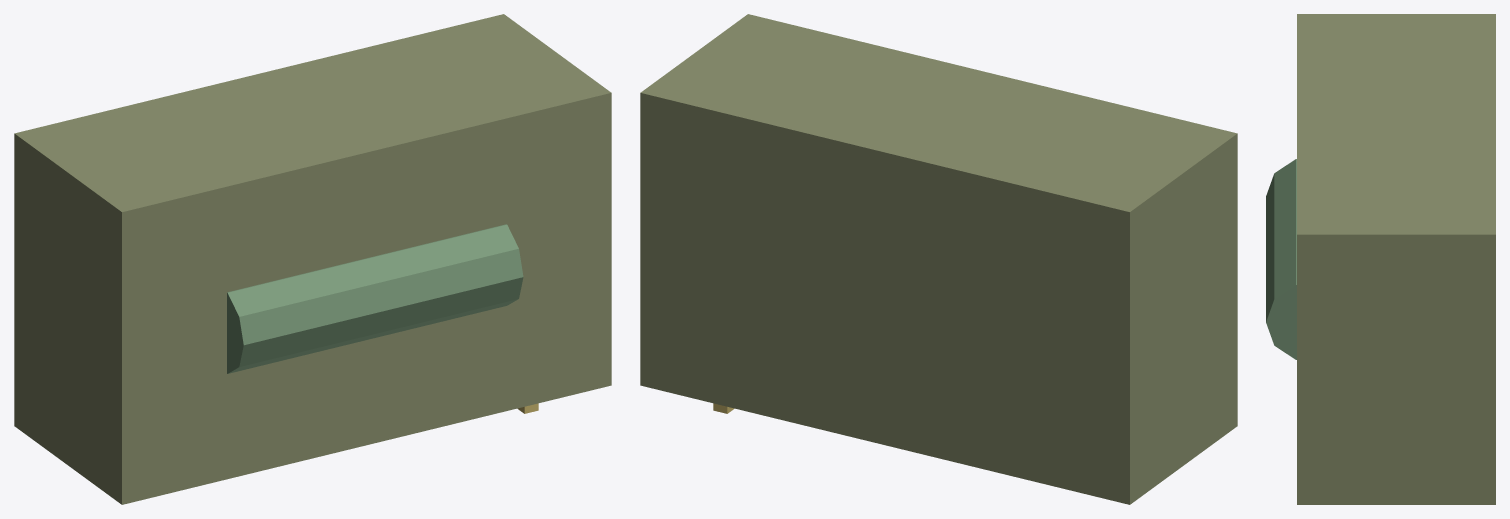
Rendered from sleeping_bag.glb.
3 renders of one model, left to right at view 1: azimuth 30°, elevation 25°; view 2: azimuth 150°, elevation 25°; view 3: azimuth 270°, elevation 25°, orthographic. The views are drawn at different scales.
Parts seen in each view (by area): view 1: 00_sleeping_bag, 03_rolled_pillow; view 2: 00_sleeping_bag; view 3: 00_sleeping_bag, 03_rolled_pillow.
Boxes of the visible parts, <box> form: 00_sleeping_bag: <box>14,14,611,504</box>; 03_rolled_pillow: <box>227,224,523,373</box>; 00_sleeping_bag: <box>640,14,1237,504</box>; 00_sleeping_bag: <box>1297,14,1495,504</box>; 03_rolled_pillow: <box>1266,159,1296,359</box>.
Bounding box in the file's own units: 0.42 × 0.254 × 0.185.
